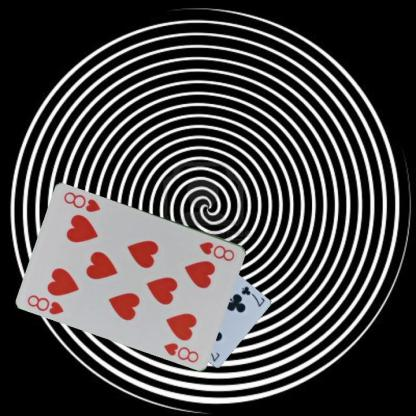7c: (238, 284, 266, 308)
8h: (25, 292, 65, 316), (196, 239, 236, 262)
